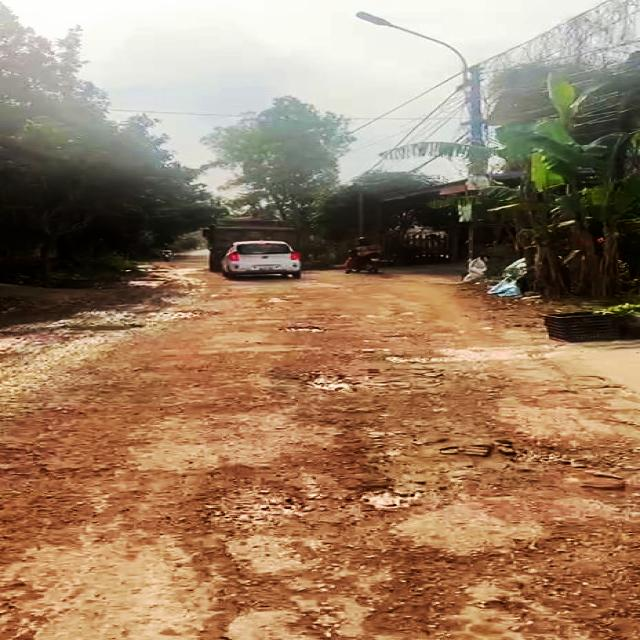pothole: (192, 481, 314, 527), (346, 482, 418, 518), (146, 307, 220, 325), (301, 371, 356, 393), (61, 322, 146, 333), (283, 324, 327, 335)
